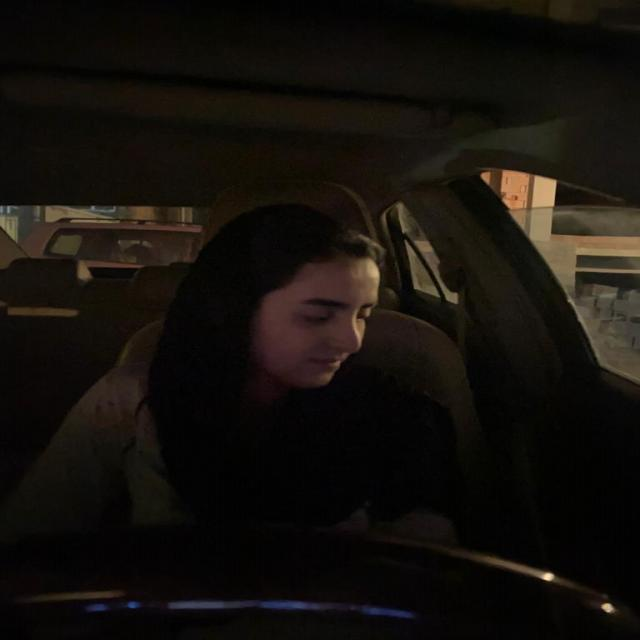drowsy: (219, 206, 391, 414)
